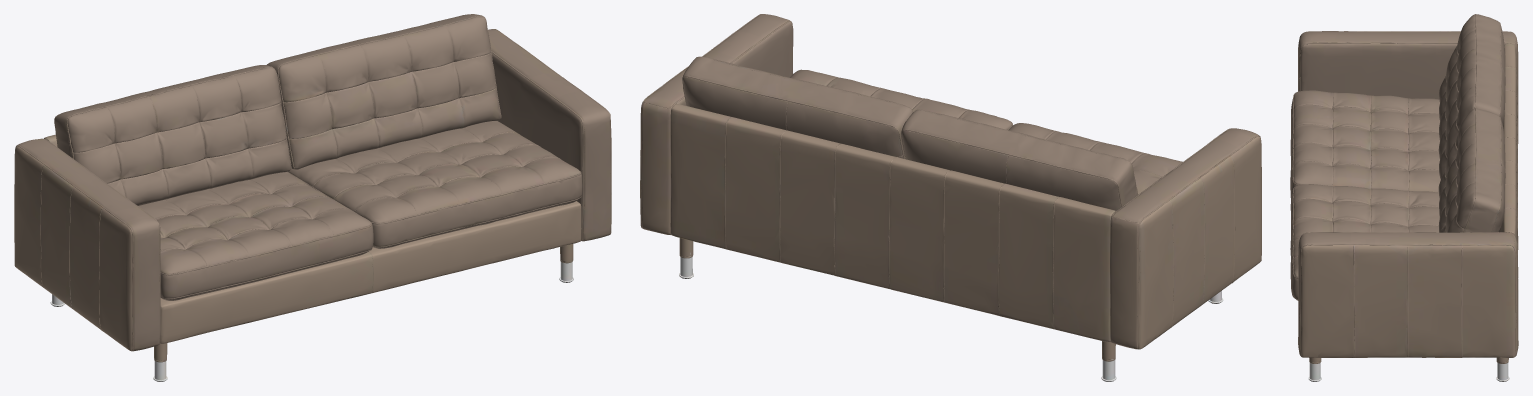
The model's file is 29 - LANDSKRONA - 三人座沙發，GrannBomstad 深米色金屬 IKEA 線上購物.glb.
3 views of the same model, side by side, from view 1: azimuth 30°, elevation 25°; view 2: azimuth 150°, elevation 25°; view 3: azimuth 270°, elevation 25° (orthographic). The views are drawn at different scales.
Parts seen in each view (by area): view 1: 30456338-MORABO001; view 2: 30456338-MORABO001; view 3: 30456338-MORABO001.
Part boxes in pixels (x1,y1,x2,y2): 30456338-MORABO001: (14,14,611,381); 30456338-MORABO001: (640,14,1261,381); 30456338-MORABO001: (1290,14,1518,381).
Size of the model in its own units: 2.09 by 0.8237 by 0.9242.
Materials: 1 (1 with a texture image).
